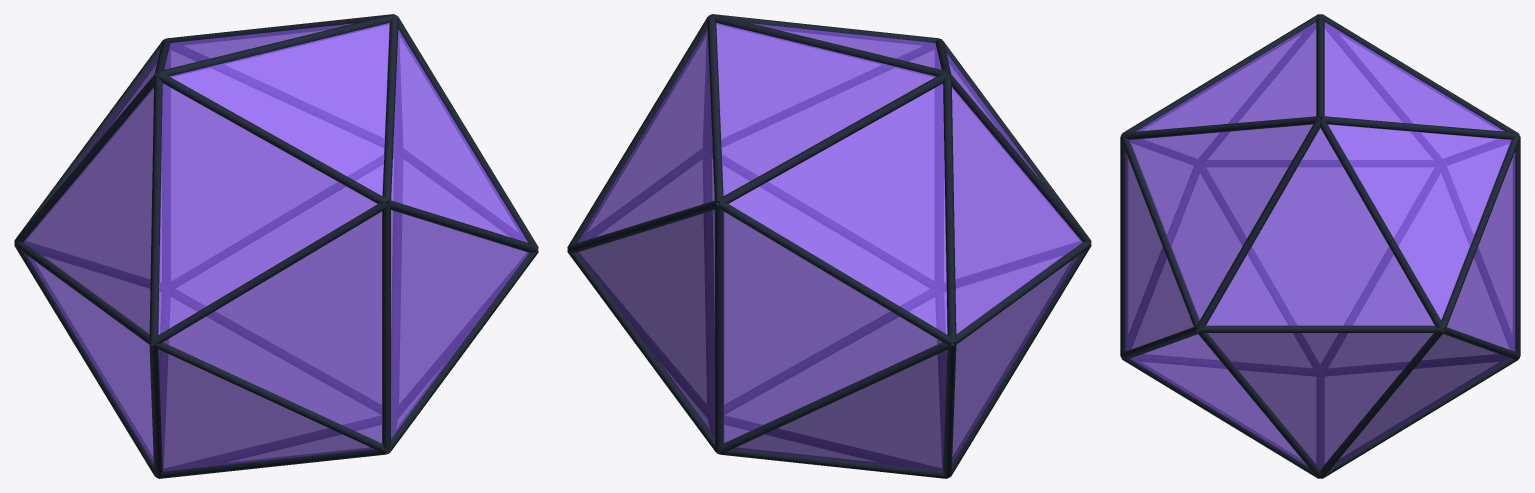
The model's file is ikosaeder.glb.
3 renders of one model, left to right at view 1: azimuth 30°, elevation 25°; view 2: azimuth 150°, elevation 25°; view 3: azimuth 270°, elevation 25°, orthographic. The views are drawn at different scales.
Visible parts, largest first — view 1: Flaechen, Kante (×17); view 2: Flaechen, Kante (×18); view 3: Flaechen, Kante (×18).
Boxes of the visible parts, bbox=[...] form: Flaechen: bbox=[23, 22, 528, 471]; Kante (×17): bbox=[14, 14, 538, 478]; Flaechen: bbox=[576, 23, 1082, 471]; Kante (×18): bbox=[567, 14, 1091, 478]; Flaechen: bbox=[1125, 22, 1515, 469]; Kante (×18): bbox=[1120, 14, 1520, 478].
Size of the model in its own units: 0.7794 by 0.7794 by 0.7816.
